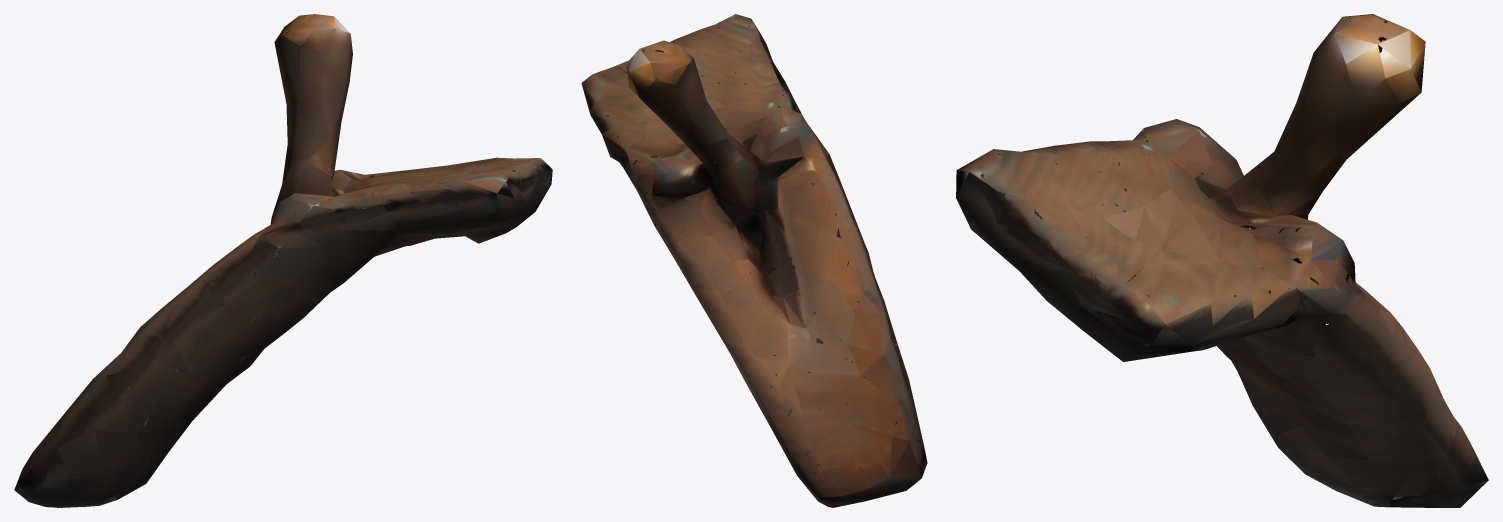
File: 04_carpenter.fbx
The picture shows the model from 3 angles, left to right: view 1: azimuth 30°, elevation 25°; view 2: azimuth 150°, elevation 25°; view 3: azimuth 270°, elevation 25°; orthographic projection. The views are drawn at different scales.
Parts seen in each view (by area): view 1: 04_carpenter; view 2: 04_carpenter; view 3: 04_carpenter.
Part boxes in pixels (box(x1,y1,x2,y2)): 04_carpenter: box(14, 14, 552, 507); 04_carpenter: box(581, 14, 927, 507); 04_carpenter: box(956, 14, 1488, 507).
Size of the model in its own units: 25 by 23.24 by 17.36.
1 material, 1 textured.
